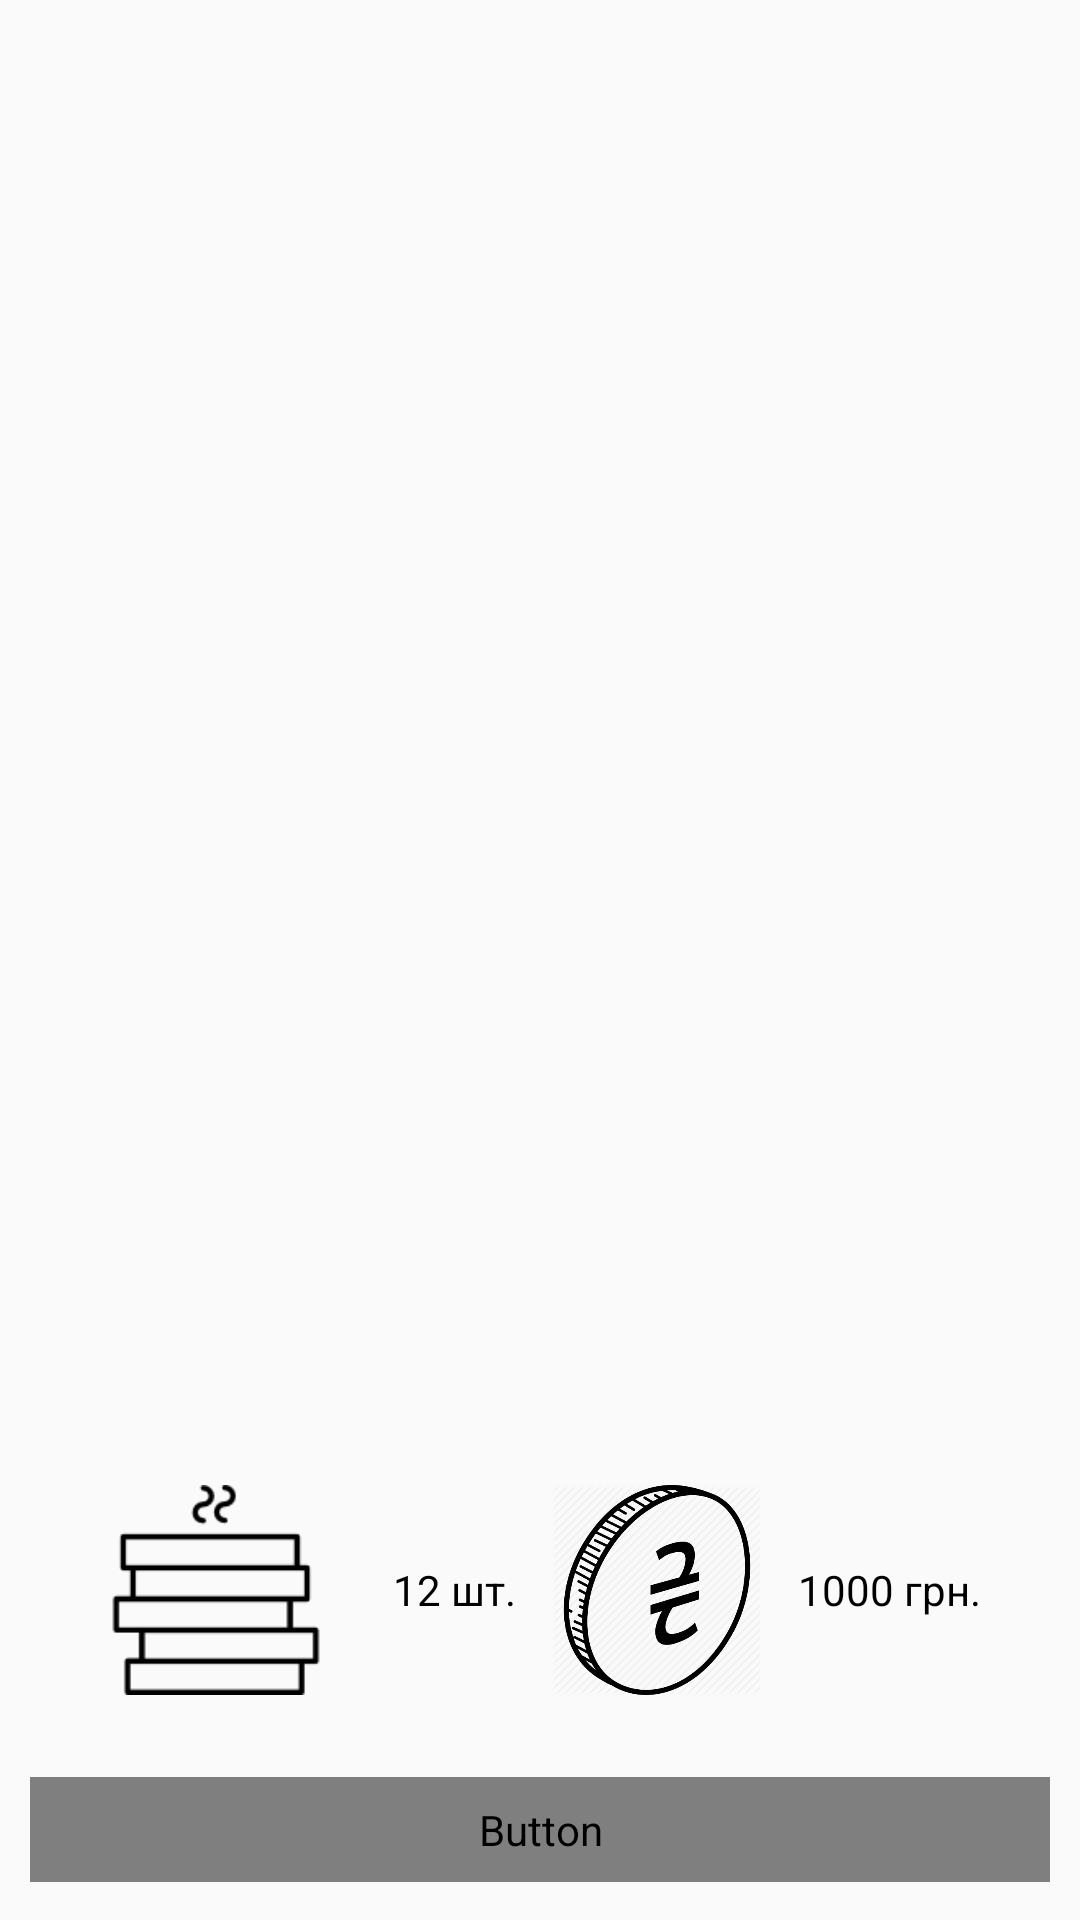

Screen size 1080px×1920px. Icon name, then its center in pixels as (x=x, y=y):
coin hryvniya: (x=657, y=1590)
ready pizza: (x=216, y=1590)
